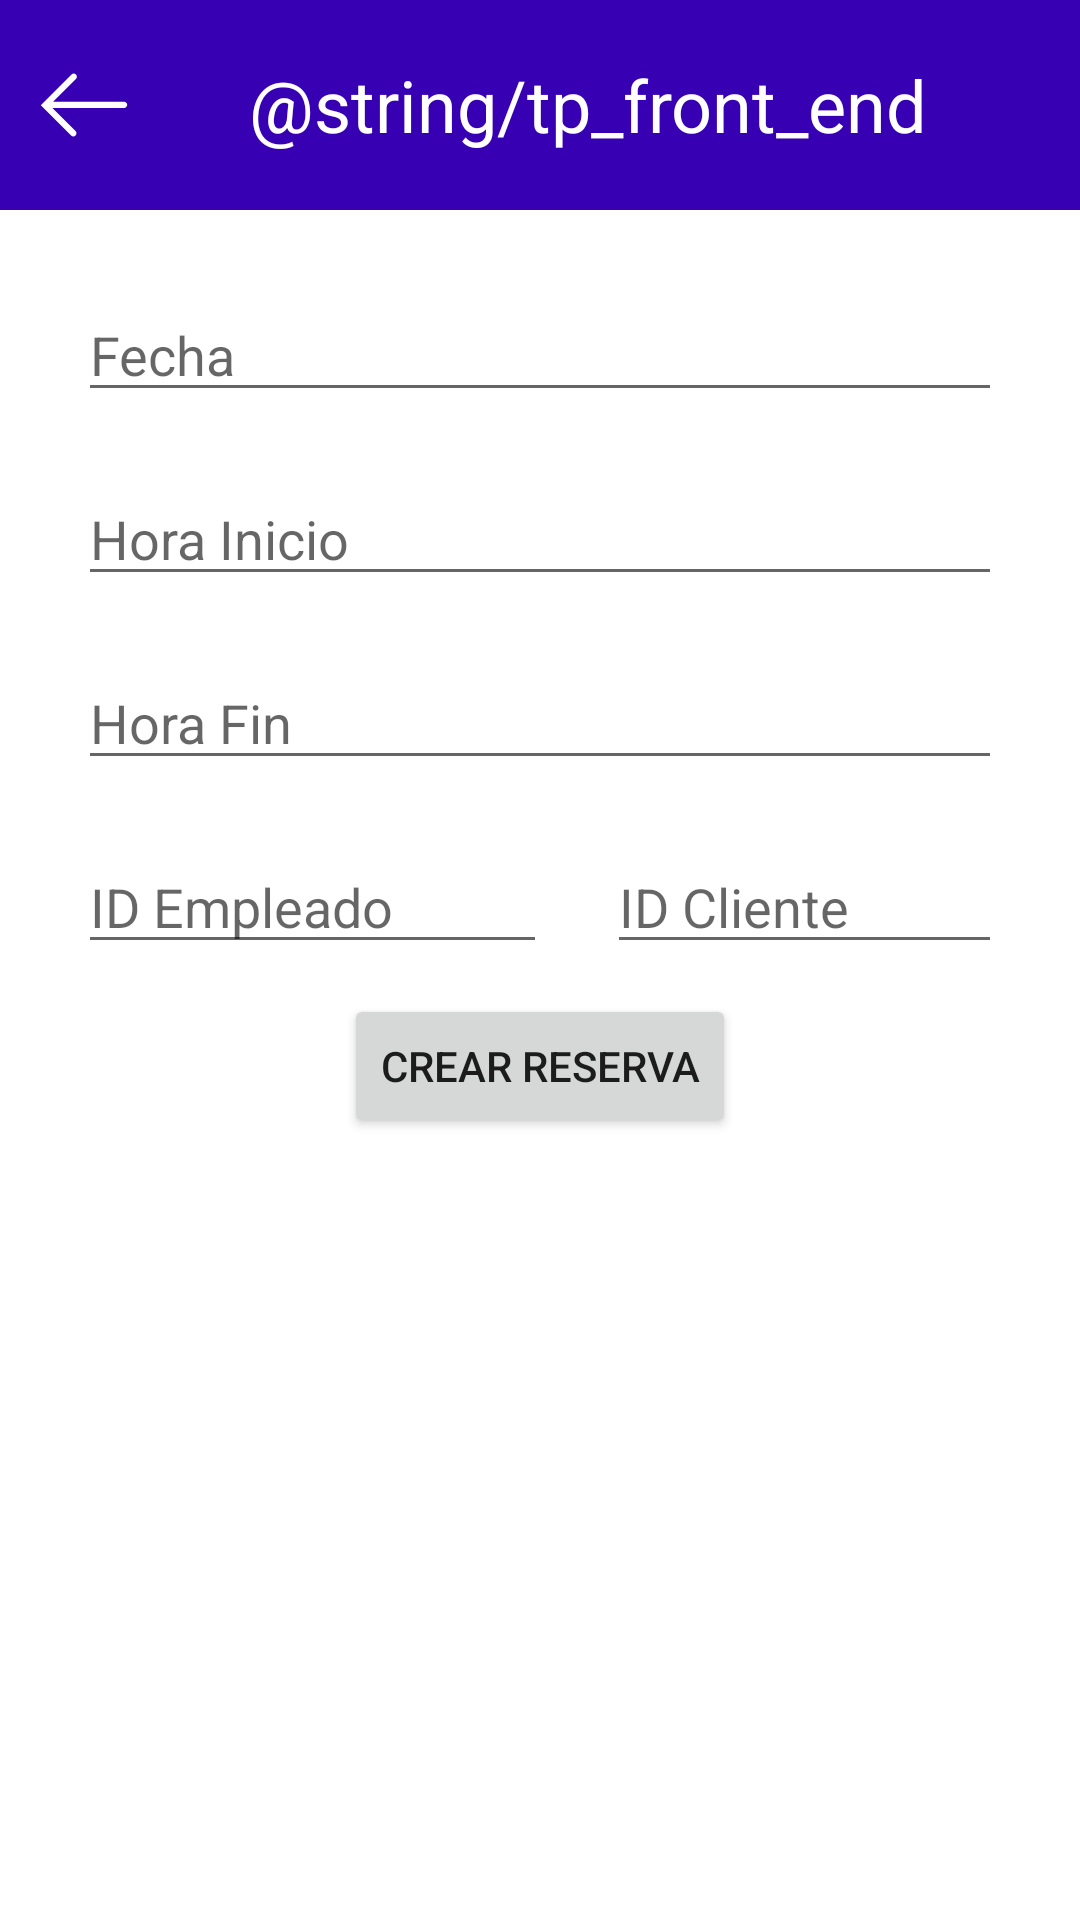

Screen size 1080 x 1920. Icon name, then its box in pixels as {"left": x1, "top": y1, "right": x2, "bottom": y2}:
arrow back: {"left": 41, "top": 73, "right": 128, "bottom": 137}
